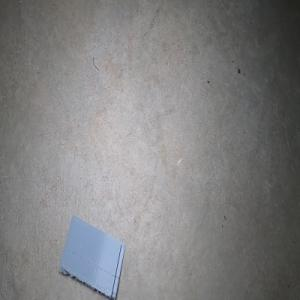PlasticPart: (57, 214, 125, 300)
